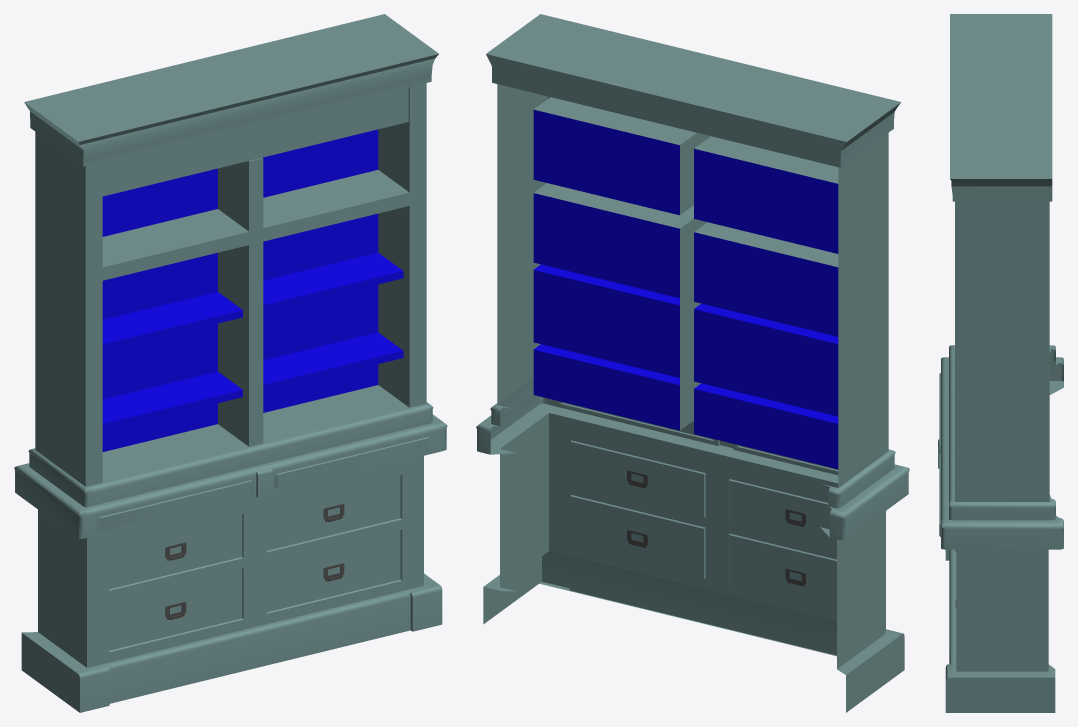
Rendered from biblio.fbx.
The picture shows the model from 3 angles, left to right: view 1: azimuth 30°, elevation 25°; view 2: azimuth 150°, elevation 25°; view 3: azimuth 270°, elevation 25°; orthographic projection. The views are drawn at different scales.
Parts seen in each view (by area): view 1: Biblio; view 2: Biblio; view 3: Biblio.
Boxes of the visible parts, <box> form: Biblio: <box>14,14,447,712</box>; Biblio: <box>476,14,909,712</box>; Biblio: <box>938,14,1063,712</box>.
Bounding box in the file's own units: 171 × 252 × 53.86.
